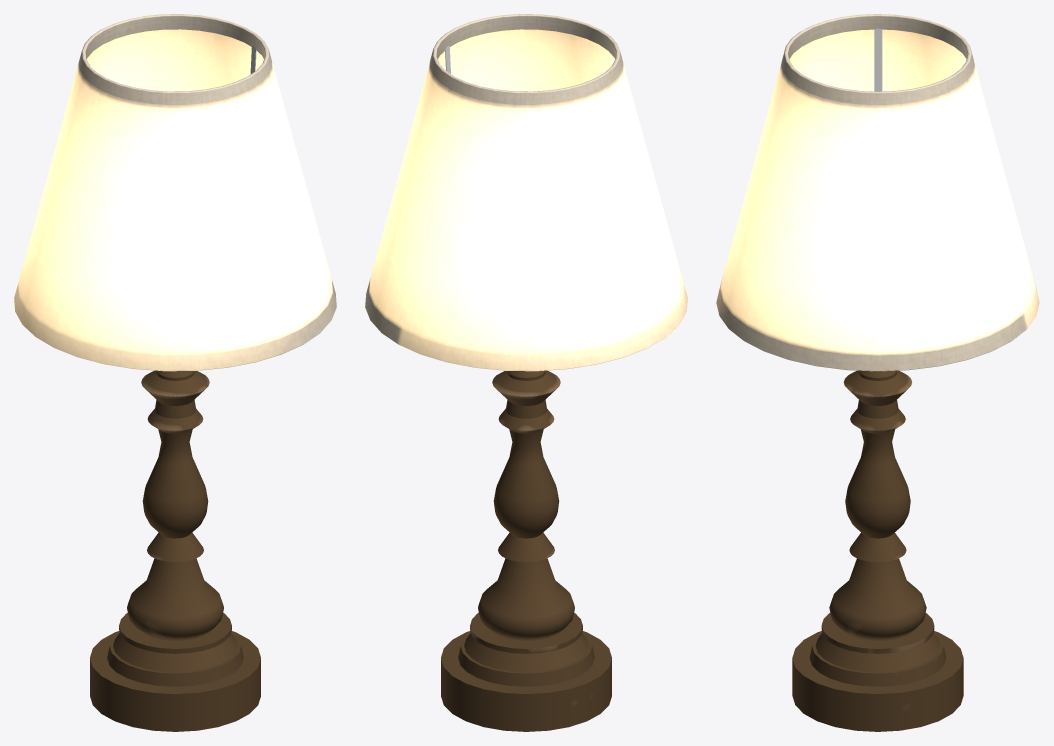
The model's file is lights_table_lamp.fbx.
The picture shows the model from 3 angles, left to right: view 1: azimuth 30°, elevation 25°; view 2: azimuth 150°, elevation 25°; view 3: azimuth 270°, elevation 25°; orthographic projection.
Visible parts, largest first — view 1: lights lowpoly.001; view 2: lights lowpoly.001; view 3: lights lowpoly.001.
Boxes of the visible parts, bbox=[...] form: lights lowpoly.001: bbox=[14, 14, 336, 731]; lights lowpoly.001: bbox=[365, 14, 687, 731]; lights lowpoly.001: bbox=[716, 14, 1039, 731].
Bounding box in the file's own units: 27.21 × 59.66 × 27.21.
